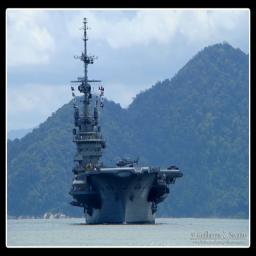Portanaves: (70, 8, 185, 227)
